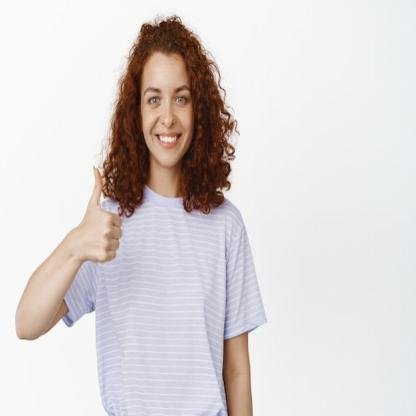thumb_up: (74, 166, 122, 264)
